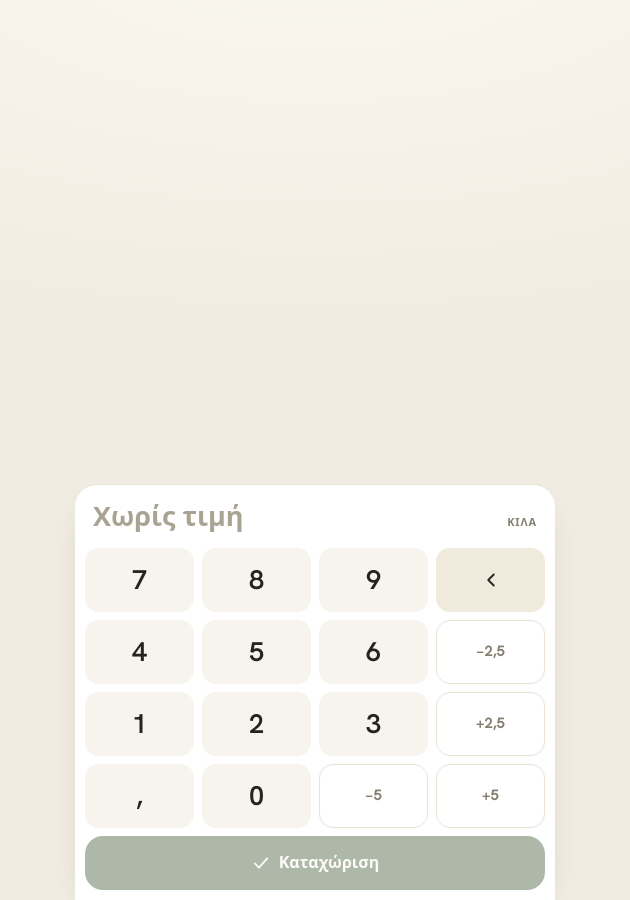
Test: Keypad › refuses an empty value instead of committing a zero
Click the button with class "th-key--commit": (315, 863) [85, 836, 545, 890]
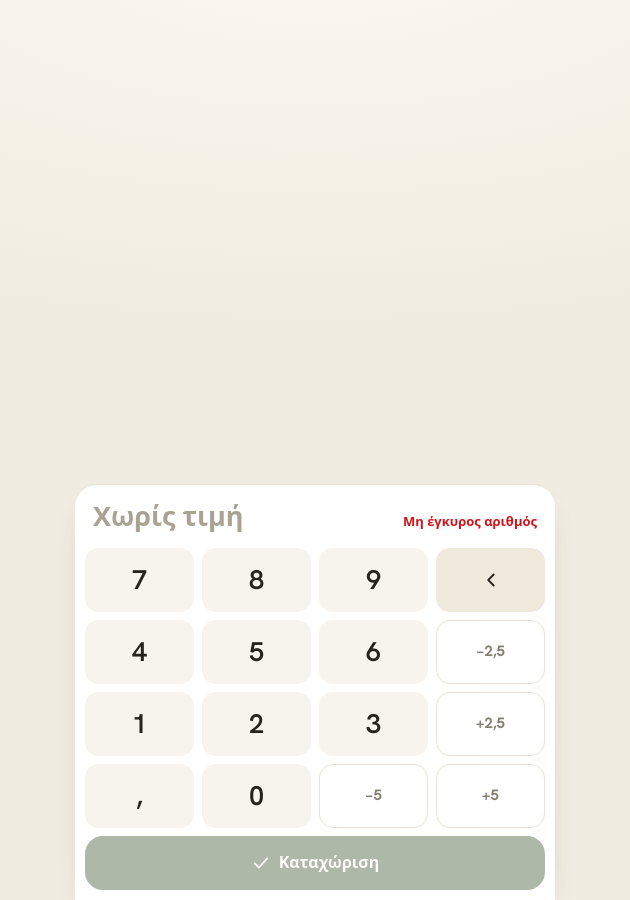
Result: the text with class "th-keypad__error" reads "Μη έγκυρος αριθμός" at [403, 513, 537, 530]
